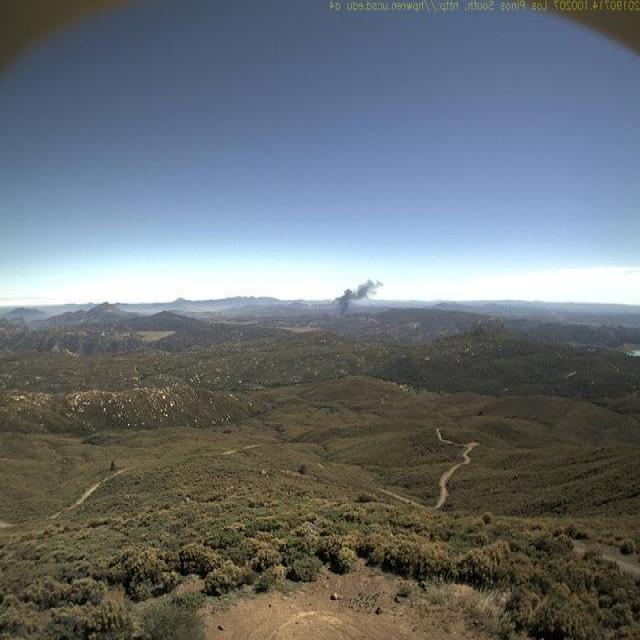Smoke: (330, 268, 387, 317)
